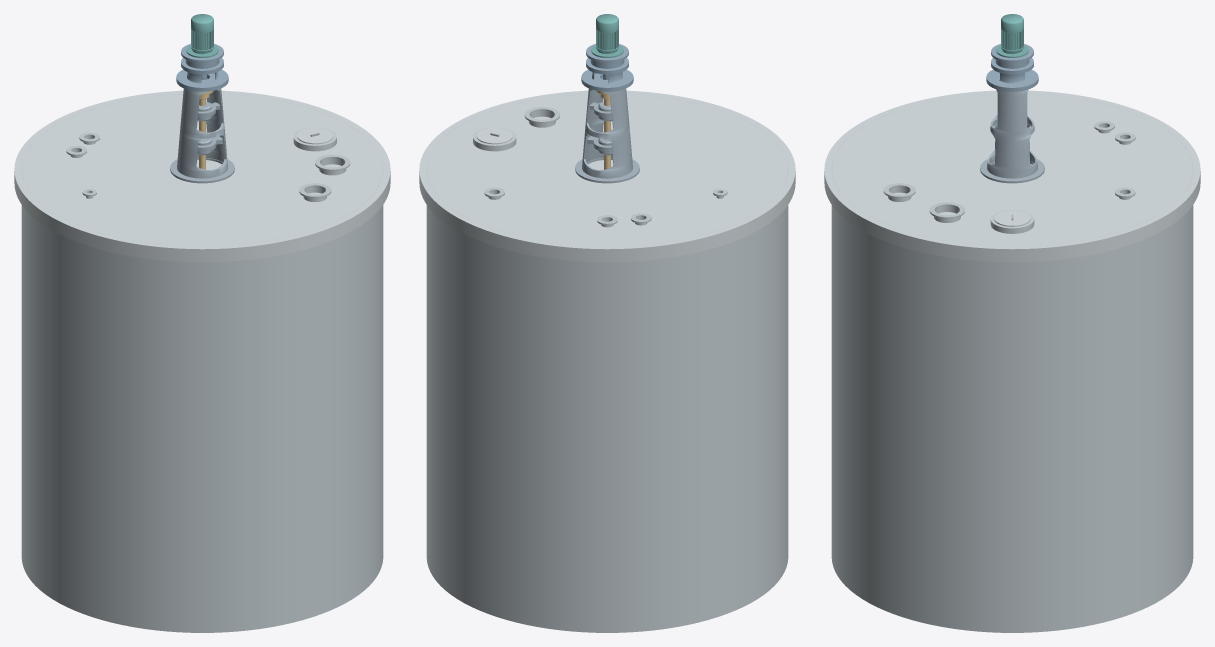
3 renders of one model, left to right at view 1: azimuth 30°, elevation 25°; view 2: azimuth 150°, elevation 25°; view 3: azimuth 270°, elevation 25°, orthographic.
Parts seen in each view (by area): view 1: 本体_筒壳, 槽盖_盖板, 支架_06_Tapered_window_frame_with_bored_seats, 驱动_01_Motor, 驱动_02_Base_flange_top, 支架_06_Frame_foot; view 2: 本体_筒壳, 槽盖_盖板, 支架_06_Tapered_window_frame_with_bored_seats, 驱动_01_Motor, 驱动_02_Base_flange_top, 支架_06_Frame_foot; view 3: 本体_筒壳, 槽盖_盖板, 支架_06_Tapered_window_frame_with_bored_seats, 驱动_01_Motor, 驱动_02_Base_flange_top, 支架_06_Frame_foot.
Part boxes in pixels (x1,y1,x2,y2): 本体_筒壳: [21, 93, 383, 632]; 槽盖_盖板: [14, 90, 390, 262]; 支架_06_Tapered_window_frame_with_bored_seats: [177, 78, 227, 178]; 驱动_01_Motor: [186, 14, 218, 57]; 驱动_02_Base_flange_top: [176, 69, 228, 89]; 支架_06_Frame_foot: [170, 158, 234, 183]; 本体_筒壳: [426, 93, 788, 632]; 槽盖_盖板: [419, 90, 795, 262]; 支架_06_Tapered_window_frame_with_bored_seats: [582, 78, 632, 178]; 驱动_01_Motor: [591, 14, 623, 57]; 驱动_02_Base_flange_top: [581, 69, 633, 89]; 支架_06_Frame_foot: [575, 158, 639, 183]; 本体_筒壳: [831, 93, 1193, 632]; 槽盖_盖板: [824, 90, 1200, 262]; 支架_06_Tapered_window_frame_with_bored_seats: [987, 89, 1037, 178]; 驱动_01_Motor: [996, 14, 1028, 57]; 驱动_02_Base_flange_top: [986, 69, 1038, 89]; 支架_06_Frame_foot: [980, 159, 1044, 183].
Size of the model in its own units: 5.2 by 8.21 by 5.2.
